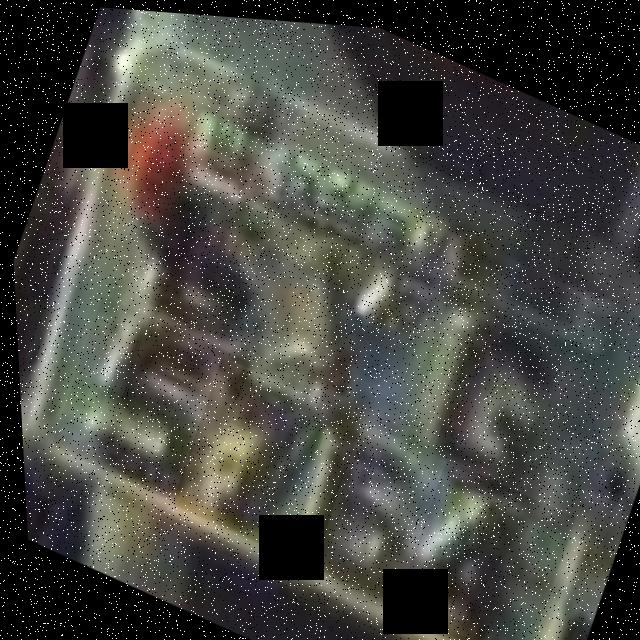1: (161, 353, 364, 566)
4: (375, 449, 577, 640)
5: (40, 291, 253, 513)
6: (268, 400, 463, 616)
N: (80, 143, 316, 383)
